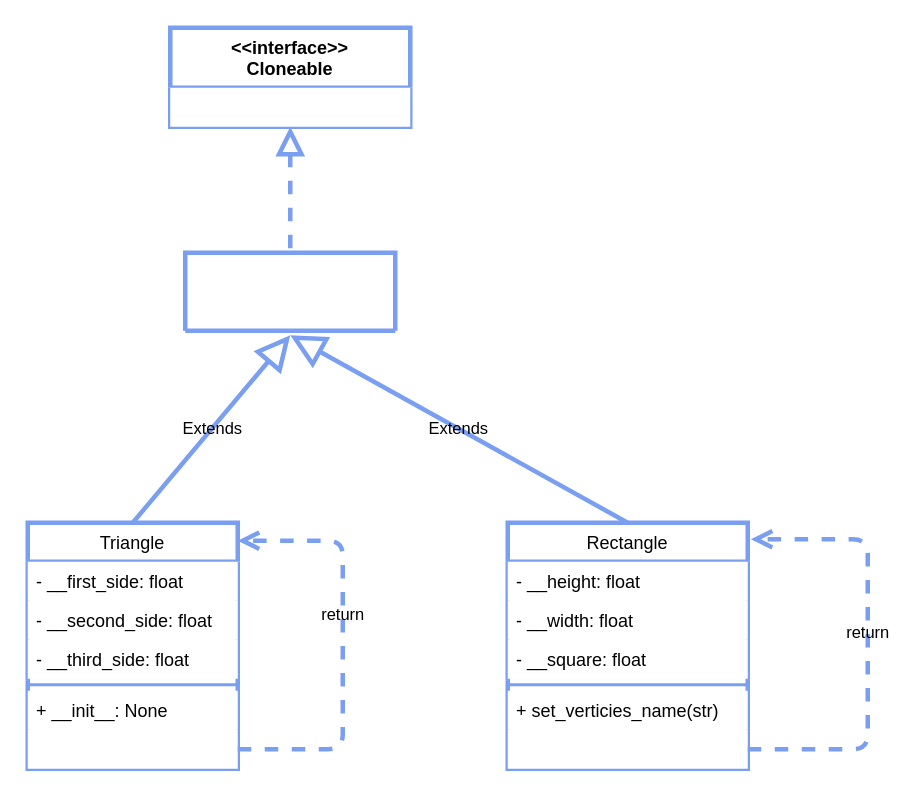
Image size: 915x800. Some labels were removed from this diagram. Here are the shapes that lost their labels. From the top down, the centre of each, then its label:
At [290,106]: "+ clone():".
At [289,291]: "Shape".
At [132,748]: "+ copy: Triangle".
At [627,748]: "+ clone: Rectangle".
